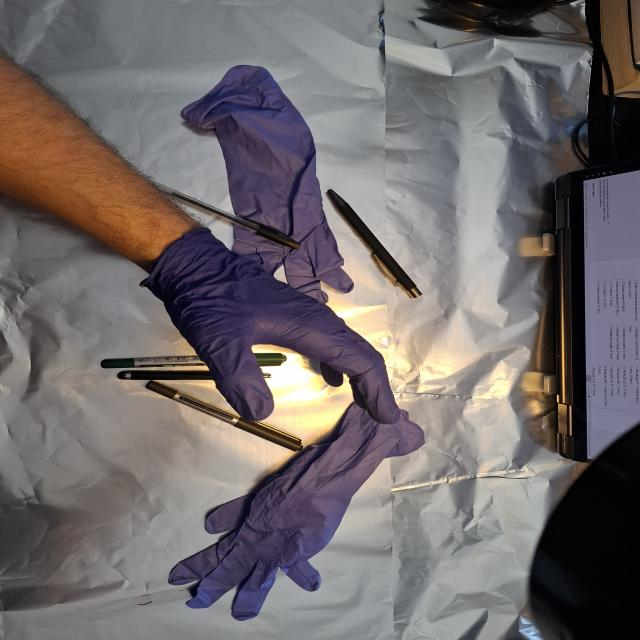glove_on: (148, 228, 404, 427)
